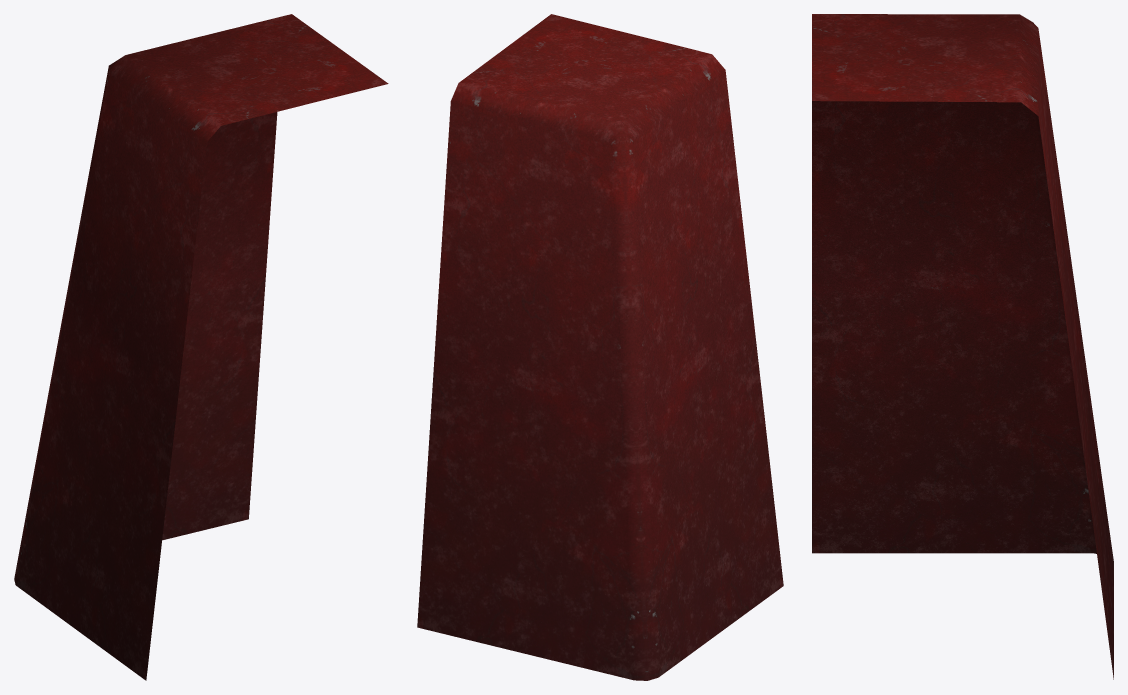
File: SM_Foundation_D_Angle.glb
3 views of the same model, side by side, from view 1: azimuth 30°, elevation 25°; view 2: azimuth 150°, elevation 25°; view 3: azimuth 270°, elevation 25° (orthographic). The views are drawn at different scales.
Parts seen in each view (by area): view 1: SM_Foundation_D_Angle; view 2: SM_Foundation_D_Angle; view 3: SM_Foundation_D_Angle.
Boxes of the visible parts, box(x1,y1,x2,y2) form: SM_Foundation_D_Angle: box(14, 14, 388, 680); SM_Foundation_D_Angle: box(417, 14, 783, 680); SM_Foundation_D_Angle: box(812, 14, 1113, 679).
Size of the model in its own units: 2.89 by 6.12 by 2.89.
1 material, 1 textured.
